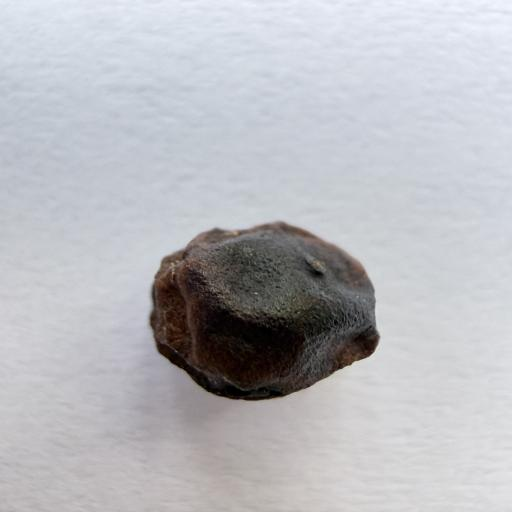Black_pepper: (108, 215, 421, 414)
